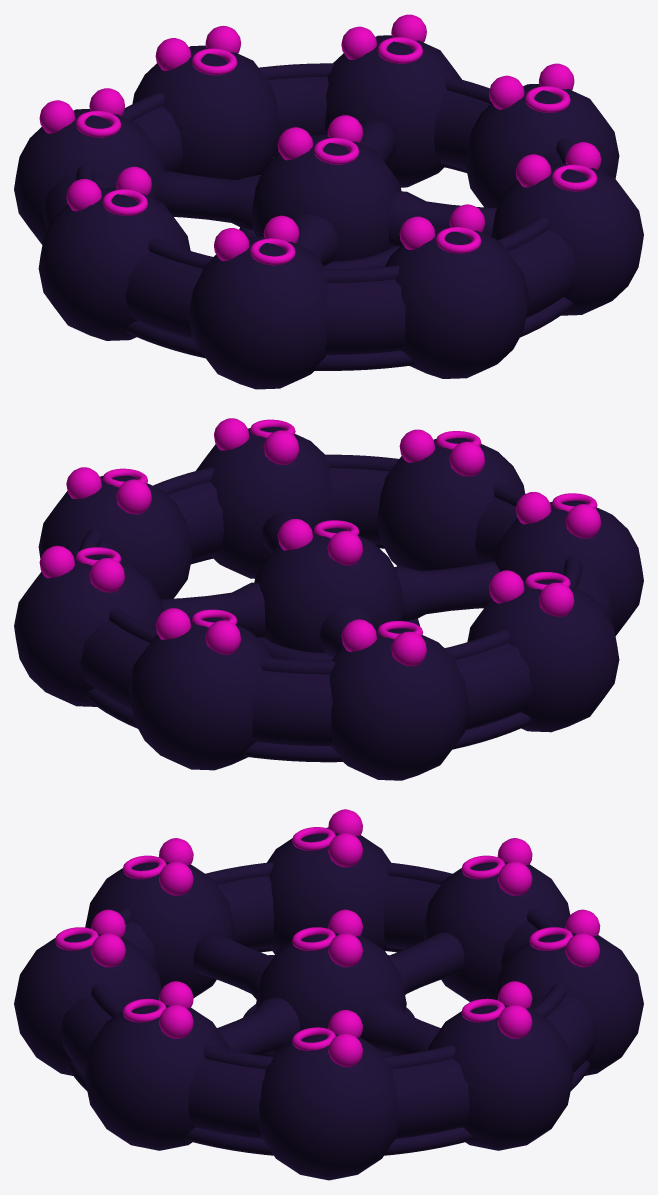
Rendered from DELTA FORCE.glb.
The picture shows the model from 3 angles, top to bottom: view 1: azimuth 30°, elevation 25°; view 2: azimuth 150°, elevation 25°; view 3: azimuth 270°, elevation 25°; orthographic projection. The views are drawn at different scales.
Parts seen in each view (by area): view 1: DELTA FORCE; view 2: DELTA FORCE; view 3: DELTA FORCE.
Part boxes in pixels (box(x1,y1,x2,y2)): DELTA FORCE: box(14, 14, 643, 389); DELTA FORCE: box(14, 418, 643, 780); DELTA FORCE: box(14, 809, 643, 1180).
Bounding box in the file's own units: 1.34 × 0.3497 × 1.34.
